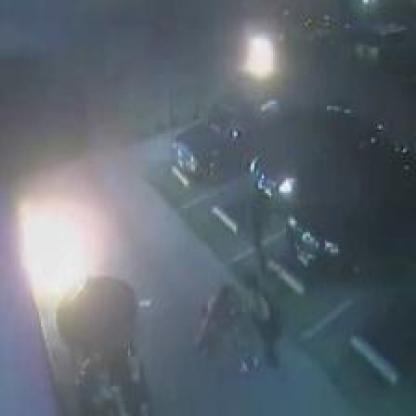fire: (9, 193, 106, 325), (238, 30, 282, 85)
